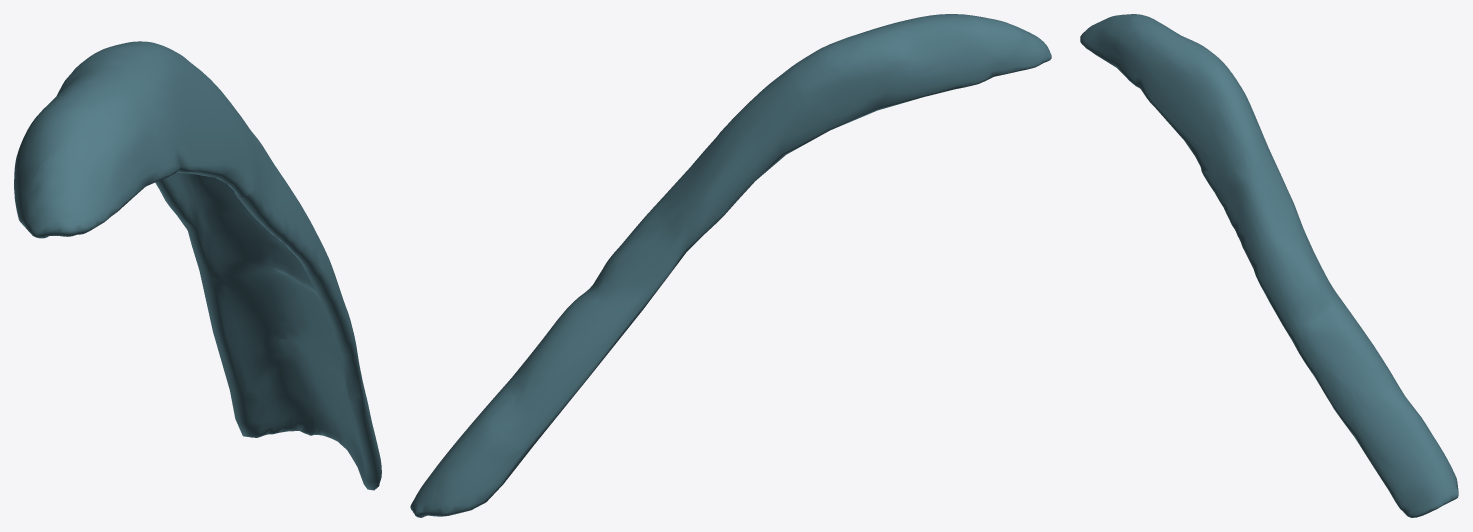
File: Levator_scapulae-Scapular_insertion.r_Generated_Mesh_From_X3D.5.glb
The picture shows the model from 3 angles, left to right: view 1: azimuth 30°, elevation 25°; view 2: azimuth 150°, elevation 25°; view 3: azimuth 270°, elevation 25°; orthographic projection. The views are drawn at different scales.
Visible parts, largest first — view 1: Levator_scapulae-Scapular_insertion.r_Generated_Mesh_From_X3; view 2: Levator_scapulae-Scapular_insertion.r_Generated_Mesh_From_X3; view 3: Levator_scapulae-Scapular_insertion.r_Generated_Mesh_From_X3.
Boxes of the visible parts, x1=… form: Levator_scapulae-Scapular_insertion.r_Generated_Mesh_From_X3: x1=14, y1=41, x2=381, y2=490; Levator_scapulae-Scapular_insertion.r_Generated_Mesh_From_X3: x1=410, y1=14, x2=1051, y2=517; Levator_scapulae-Scapular_insertion.r_Generated_Mesh_From_X3: x1=1080, y1=14, x2=1458, y2=517.
Bounding box in the file's own units: 0.0224 × 0.0231 × 0.0219.
